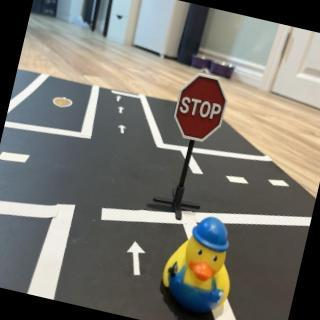duck_specialty: (156, 208, 246, 320)
road_oneway: (122, 239, 151, 279), (116, 123, 130, 139), (117, 105, 127, 116), (116, 94, 125, 105)
sign_stop: (171, 72, 233, 146)
